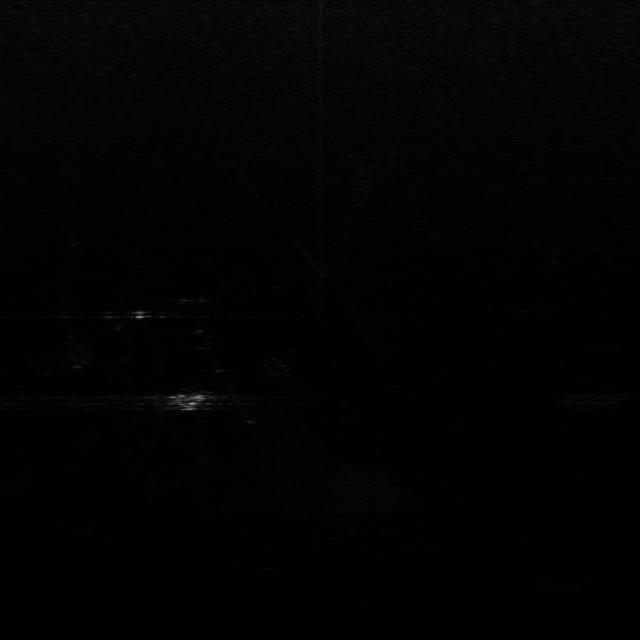rov: (167, 389, 211, 414)
